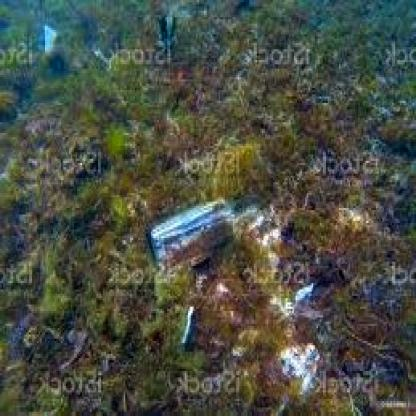can: (148, 198, 236, 268)
